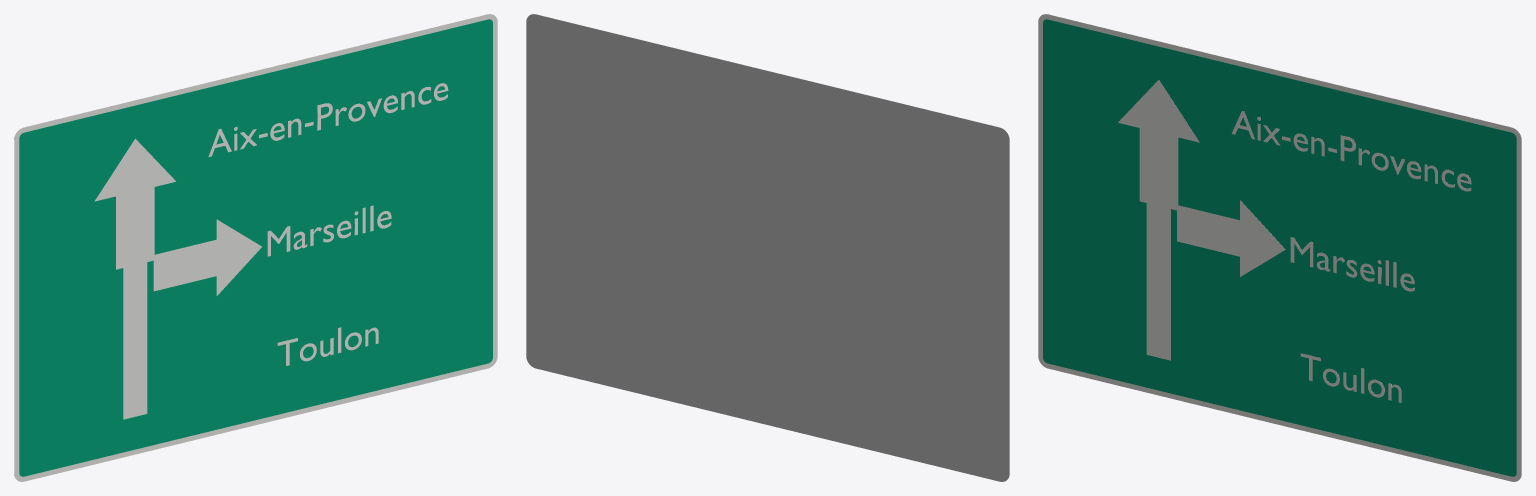
3 views of the same model, side by side, from view 1: azimuth 30°, elevation 25°; view 2: azimuth 150°, elevation 25°; view 3: azimuth 330°, elevation 25° (orthographic).
Visible parts, largest first — view 1: D41a_fond01, D41a_cadre00, D41a_fl03, D41a_br04, D41a_tige02, D41a_txt05, D41a_txt06, D41a_txt07; view 2: D41a_dos; view 3: D41a_fond01, D41a_cadre00, D41a_fl03, D41a_br04, D41a_tige02, D41a_txt05, D41a_txt06, D41a_txt07.
Boxes of the visible parts, left/top/right/bottom form: D41a_fond01: left=19, top=19, right=492, bottom=476; D41a_cadre00: left=14, top=14, right=497, bottom=481; D41a_fl03: left=94, top=139, right=175, bottom=269; D41a_br04: left=153, top=219, right=261, bottom=295; D41a_tige02: left=123, top=262, right=147, bottom=419; D41a_txt05: left=208, top=83, right=448, bottom=157; D41a_txt06: left=267, top=205, right=391, bottom=256; D41a_txt07: left=277, top=327, right=378, bottom=365; D41a_dos: left=526, top=14, right=1009, bottom=481; D41a_fond01: left=1043, top=19, right=1516, bottom=476; D41a_cadre00: left=1038, top=14, right=1521, bottom=481; D41a_fl03: left=1118, top=80, right=1199, bottom=210; D41a_br04: left=1177, top=200, right=1285, bottom=276; D41a_tige02: left=1146, top=203, right=1170, bottom=360; D41a_txt05: left=1231, top=111, right=1471, bottom=191; D41a_txt06: left=1290, top=237, right=1414, bottom=291; D41a_txt07: left=1300, top=353, right=1401, bottom=402.
Size of the model in its own units: 2 by 1.4 by 0.0045.
